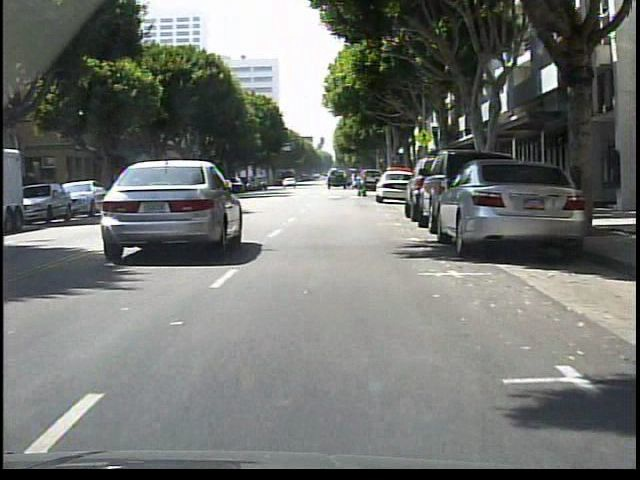person: (355, 169, 369, 197), (353, 169, 354, 188)
